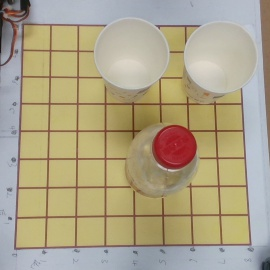bottle: (119, 122, 200, 200)
cup: (82, 16, 169, 113), (174, 19, 257, 116)
